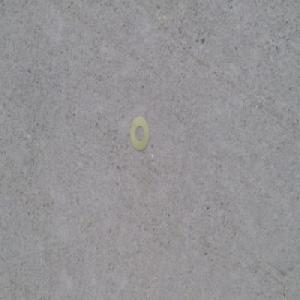Washer: (129, 115, 150, 152)
